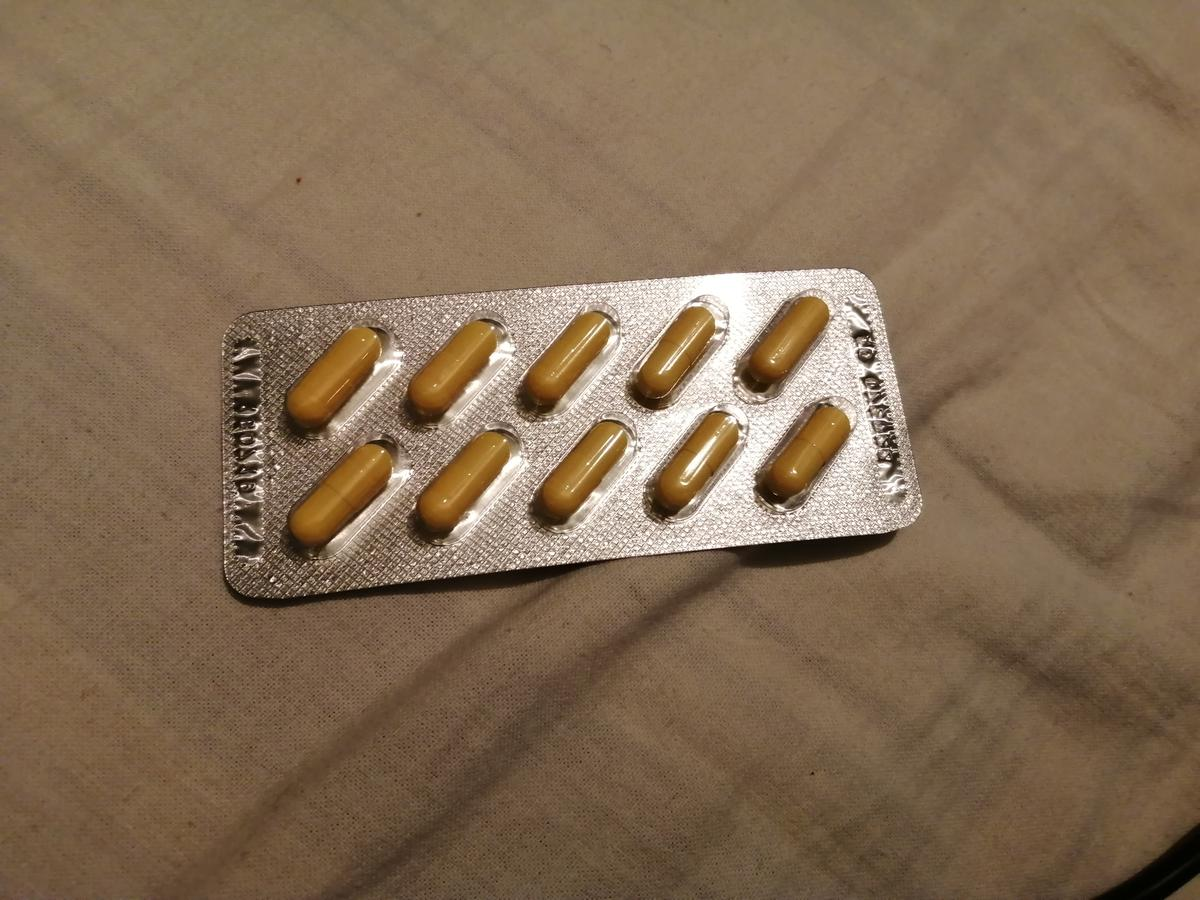capsule: (284, 439, 392, 551), (279, 324, 387, 429), (413, 430, 511, 542), (403, 313, 503, 421), (534, 420, 629, 527), (524, 310, 612, 414), (649, 411, 740, 511), (747, 293, 833, 387), (767, 404, 850, 500), (636, 298, 713, 397)
